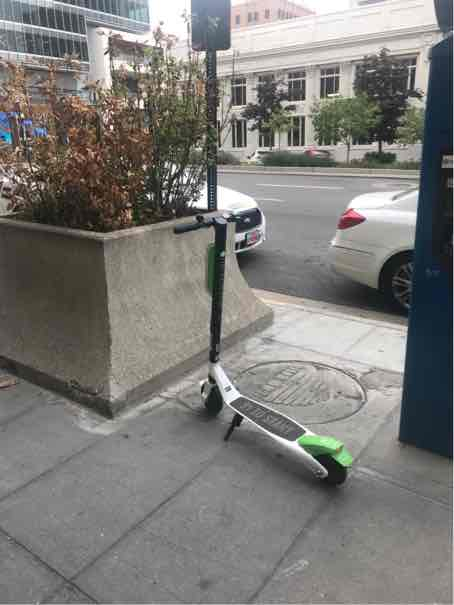scooter: (159, 200, 355, 490)
